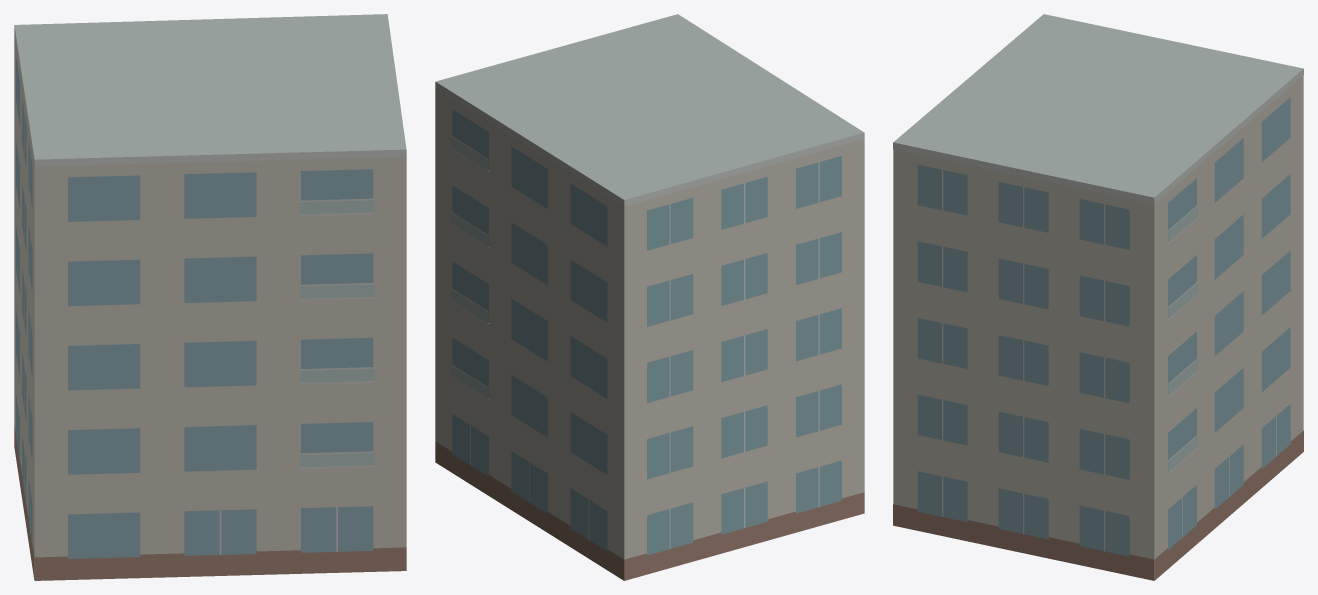
The model's file is survey-upis-32894254.glb.
The picture shows the model from 3 angles, left to right: view 1: azimuth 30°, elevation 25°; view 2: azimuth 150°, elevation 25°; view 3: azimuth 270°, elevation 25°; orthographic projection. The views are drawn at different scales.
Visible parts, largest first — view 1: survey-upis-32894254.tmp; view 2: survey-upis-32894254.tmp; view 3: survey-upis-32894254.tmp.
Boxes of the visible parts, box(x1,y1,x2,y2) form: survey-upis-32894254.tmp: box(14, 14, 406, 580); survey-upis-32894254.tmp: box(435, 14, 864, 580); survey-upis-32894254.tmp: box(893, 14, 1303, 580).
Size of the model in its own units: 14.92 by 14.5 by 14.09.
